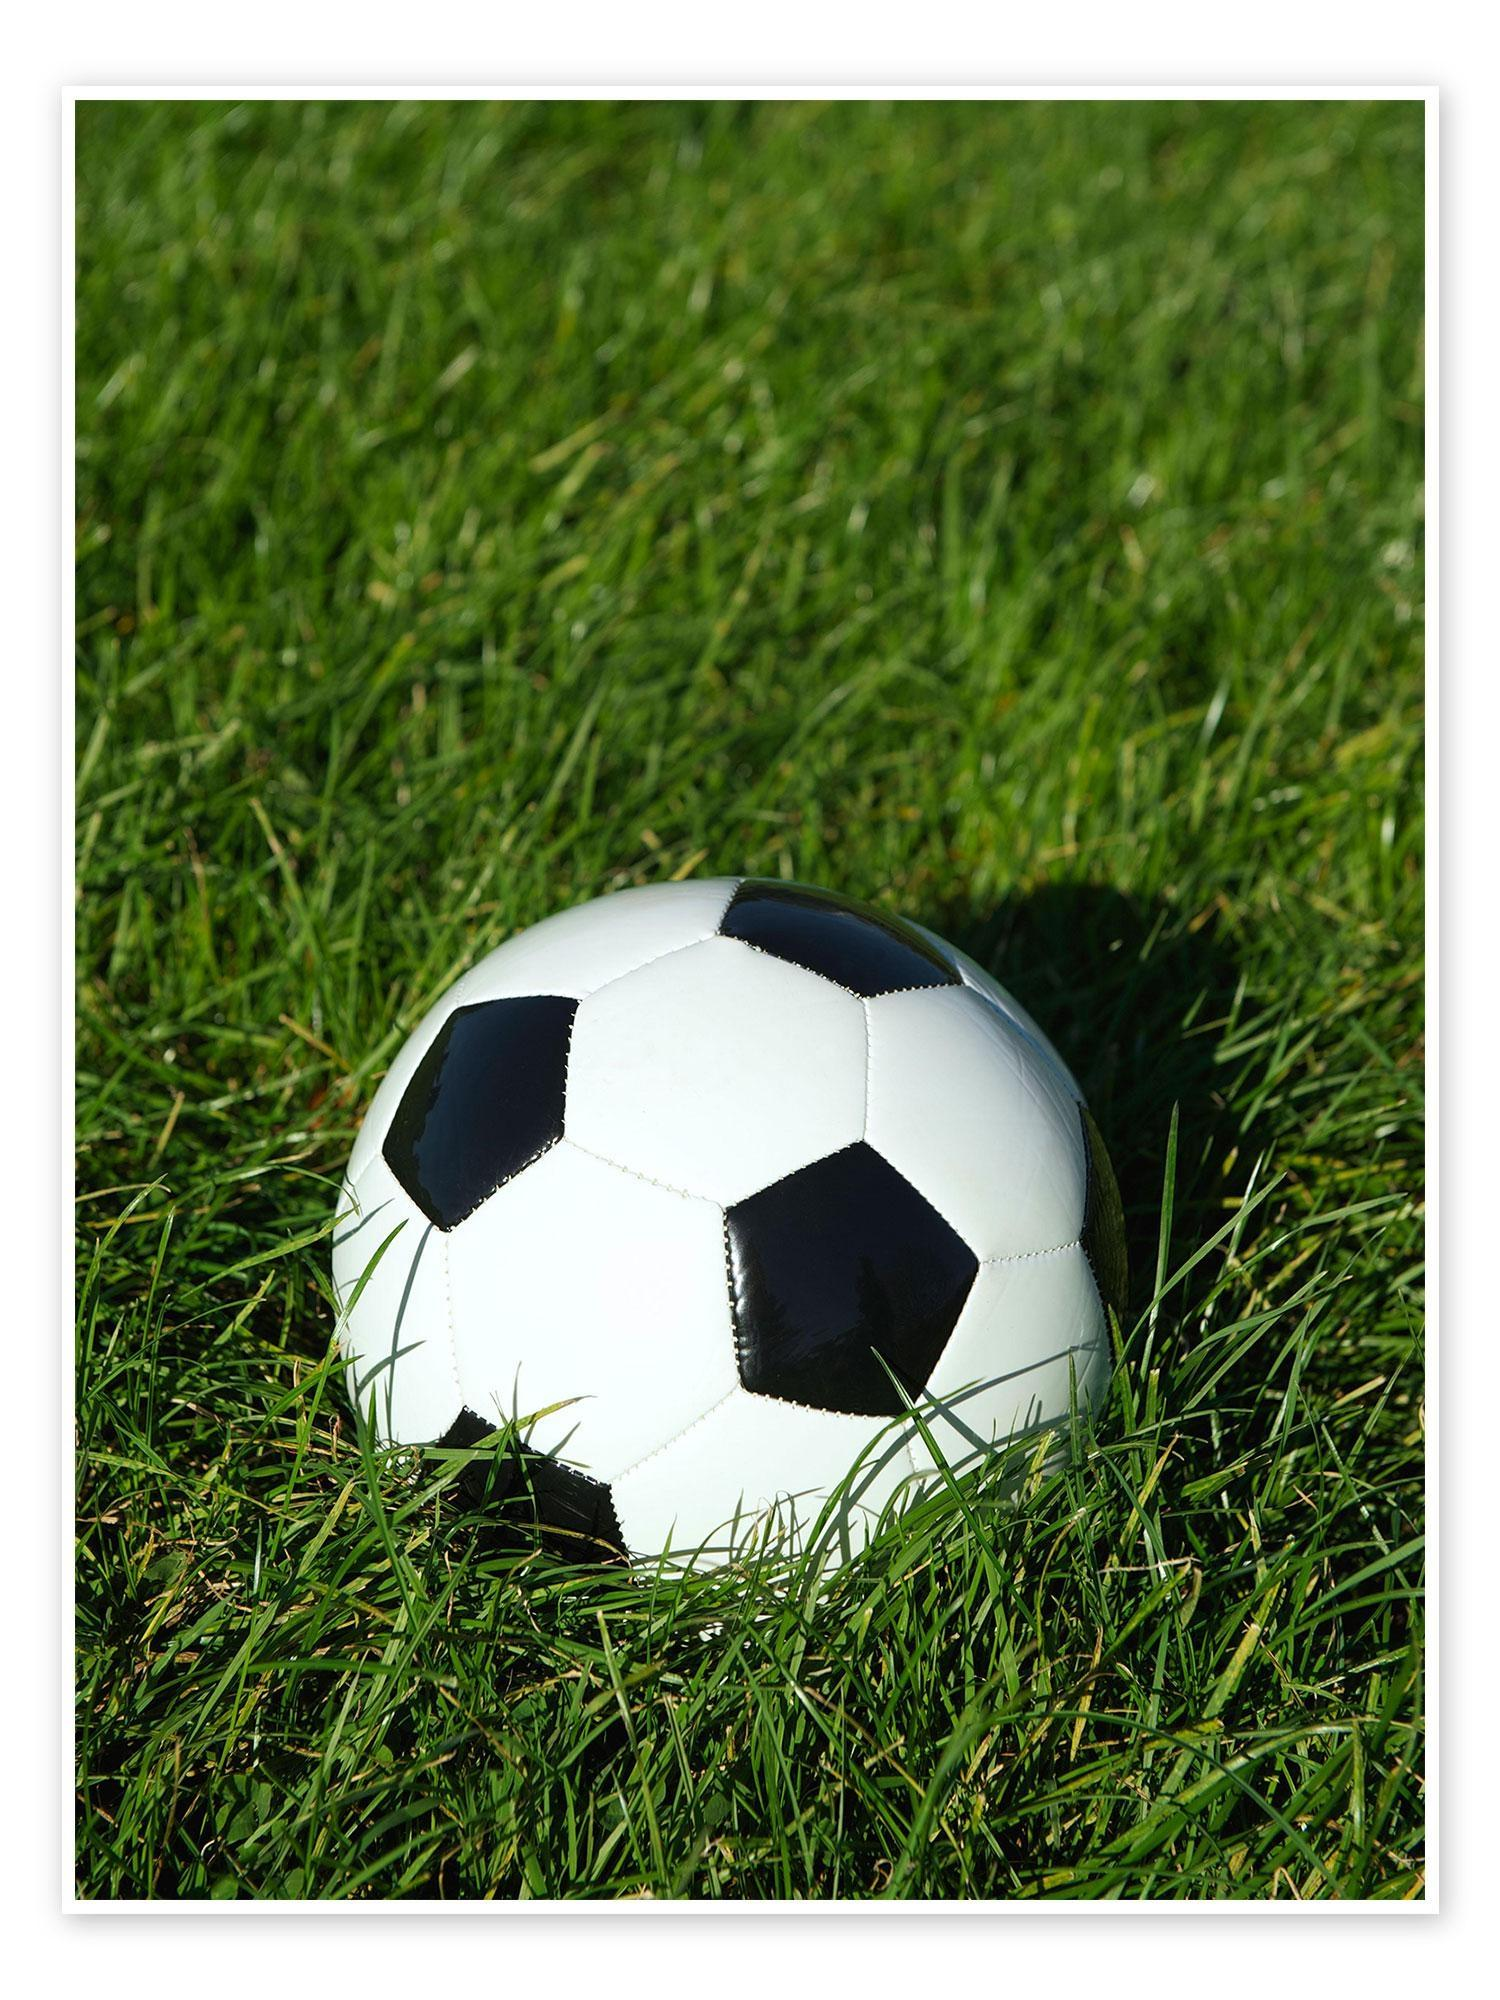Sports-Ball: (307, 880, 1125, 1529)
